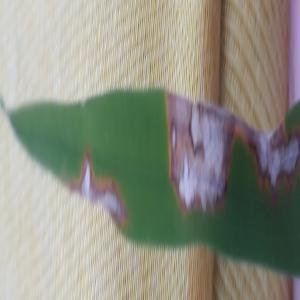Busuk Leher: (158, 90, 237, 214), (74, 150, 130, 224), (247, 122, 300, 188)
